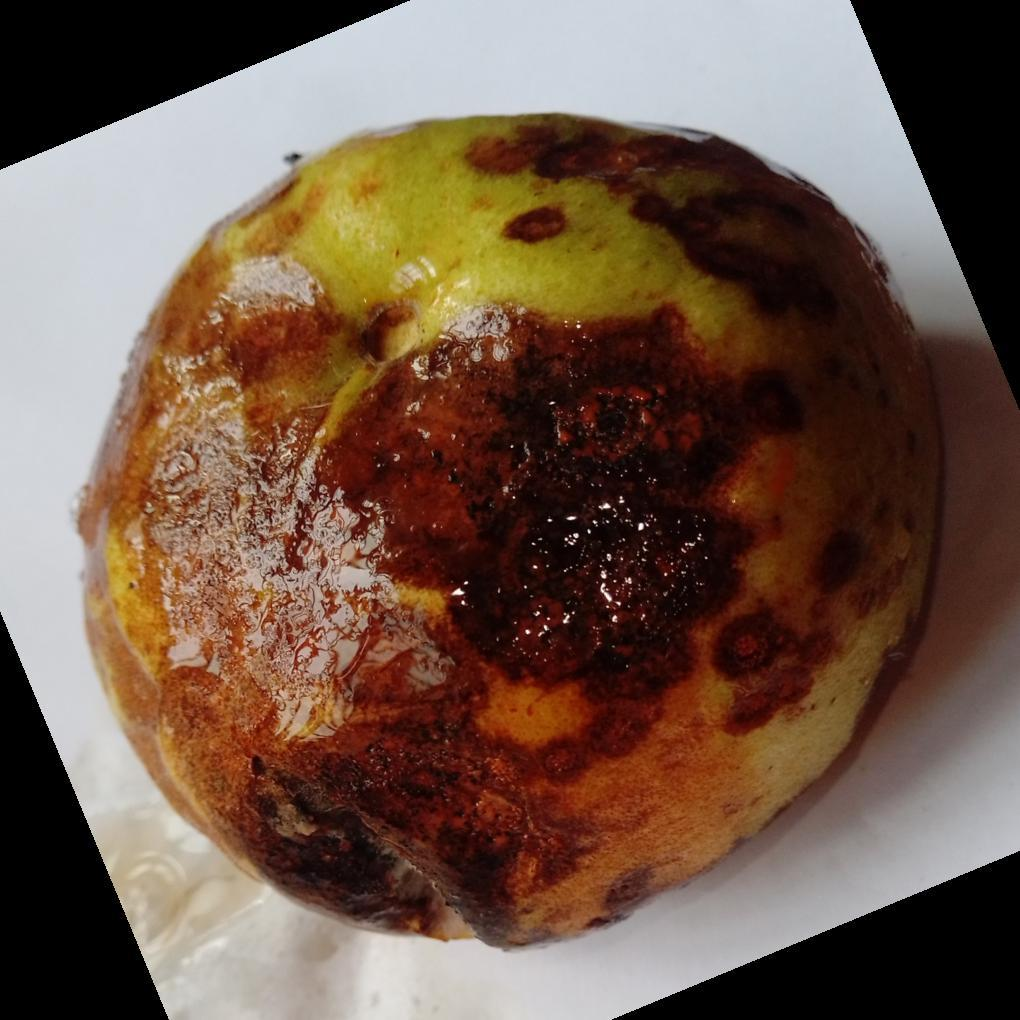FreshOrange: (73, 112, 944, 955)
